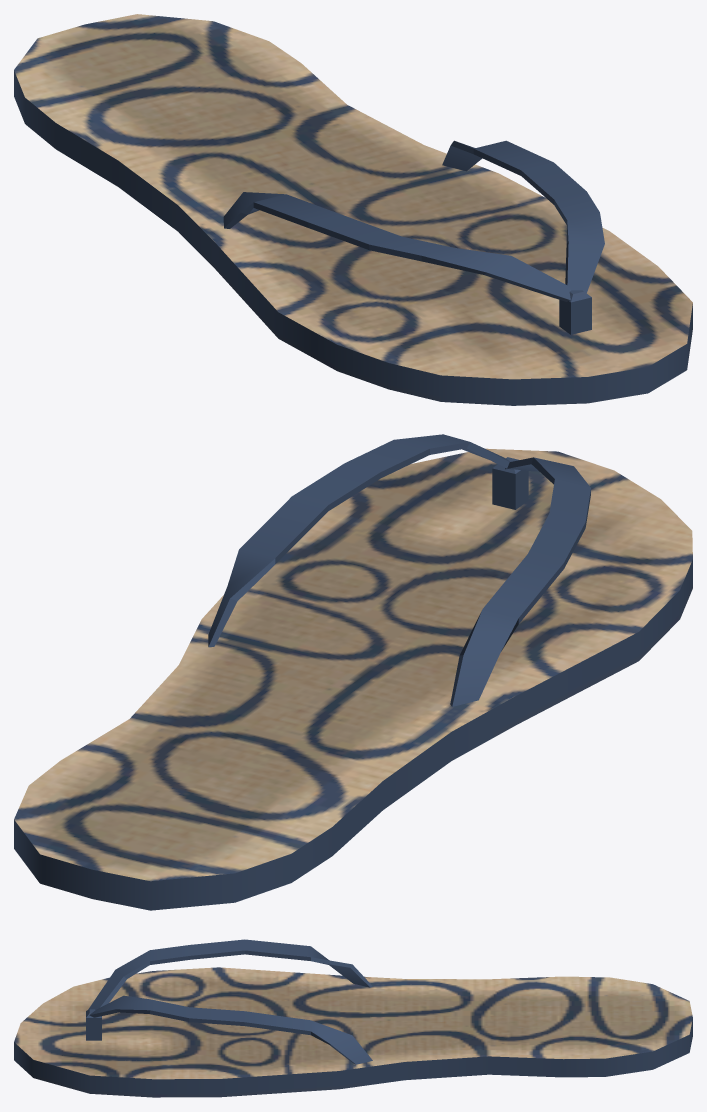
File: p6_beach_sandals_01_right_lod0.glb
3 renders of one model, top to bottom at view 1: azimuth 30°, elevation 25°; view 2: azimuth 150°, elevation 25°; view 3: azimuth 270°, elevation 25°, orthographic. The views are drawn at different scales.
Visible parts, largest first — view 1: surf0; view 2: surf0; view 3: surf0.
Boxes of the visible parts, bbox=[...] form: surf0: bbox=[14, 14, 692, 405]; surf0: bbox=[14, 434, 692, 910]; surf0: bbox=[14, 939, 692, 1097].
Bounding box in the file's own units: 5.16 × 1.44 × 13.24.
